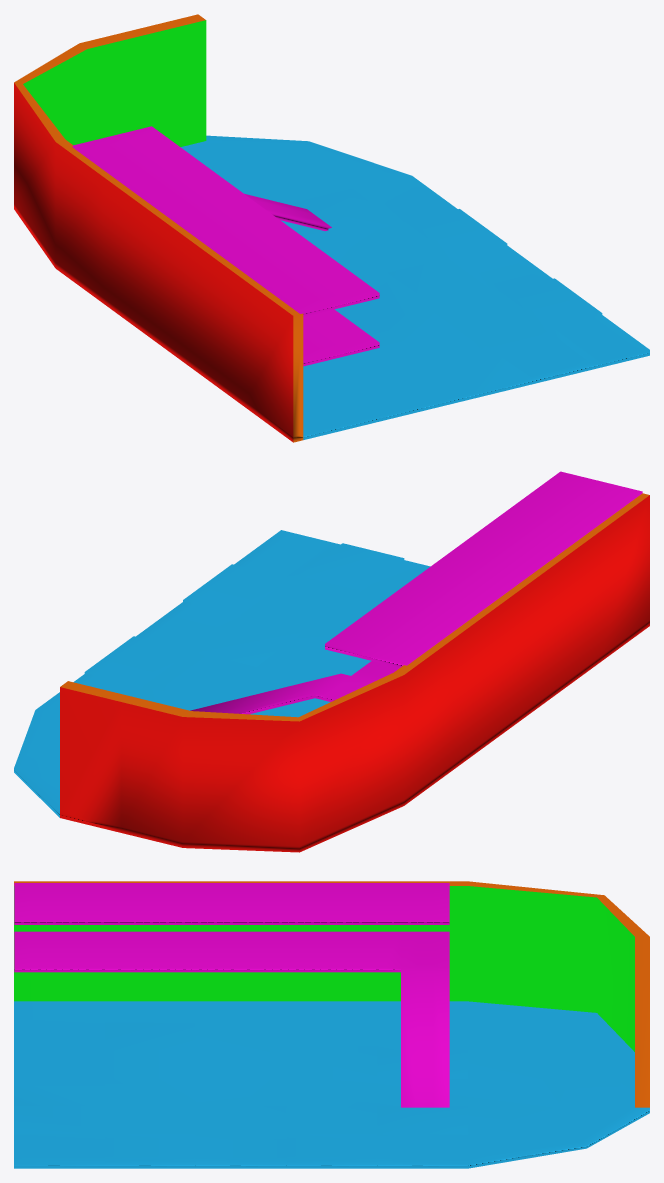
Rendered from plataforma.fbx.
3 views of the same model, one above another, from view 1: azimuth 30°, elevation 25°; view 2: azimuth 150°, elevation 25°; view 3: azimuth 270°, elevation 25° (orthographic). The views are drawn at different scales.
Parts seen in each view (by area): view 1: Cube, Cube.002, Cube.001; view 2: Cube, Cube.002, Cube.001; view 3: Cube, Cube.001, Cube.002.
Part boxes in pixels (left/top/right/bottom): Cube: left=14, top=14, right=649, bottom=442; Cube.002: left=72, top=126, right=379, bottom=316; Cube.001: left=244, top=193, right=379, bottom=366; Cube: left=14, top=493, right=649, bottom=852; Cube.002: left=325, top=471, right=642, bottom=667; Cube.001: left=190, top=661, right=399, bottom=714; Cube: left=14, top=881, right=649, bottom=1168; Cube.001: left=14, top=931, right=449, bottom=1107; Cube.002: left=14, top=883, right=449, bottom=924.
Size of the model in its own units: 9.26 by 14.98 by 3.26.
